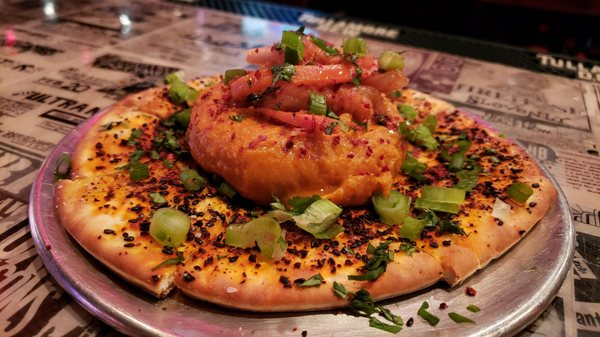curry: (1, 2, 594, 327)
sandwich: (50, 26, 555, 308)
